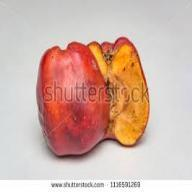apple: (82, 39, 158, 152), (38, 46, 110, 156)
